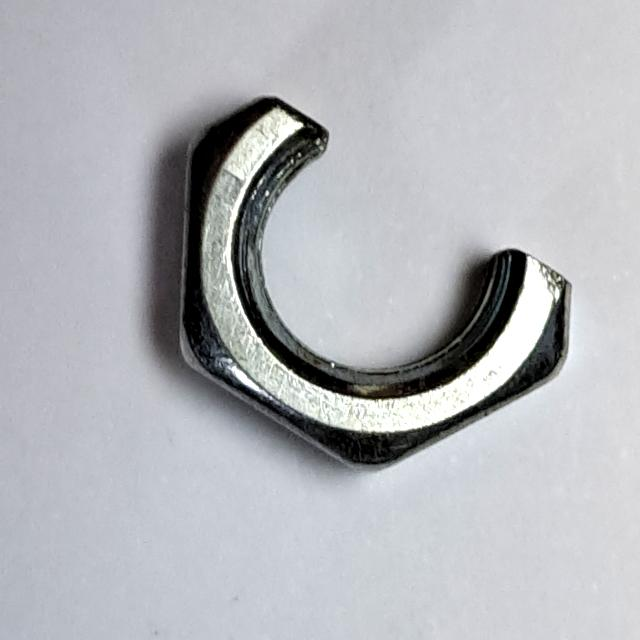Fracture: (160, 76, 586, 494)
